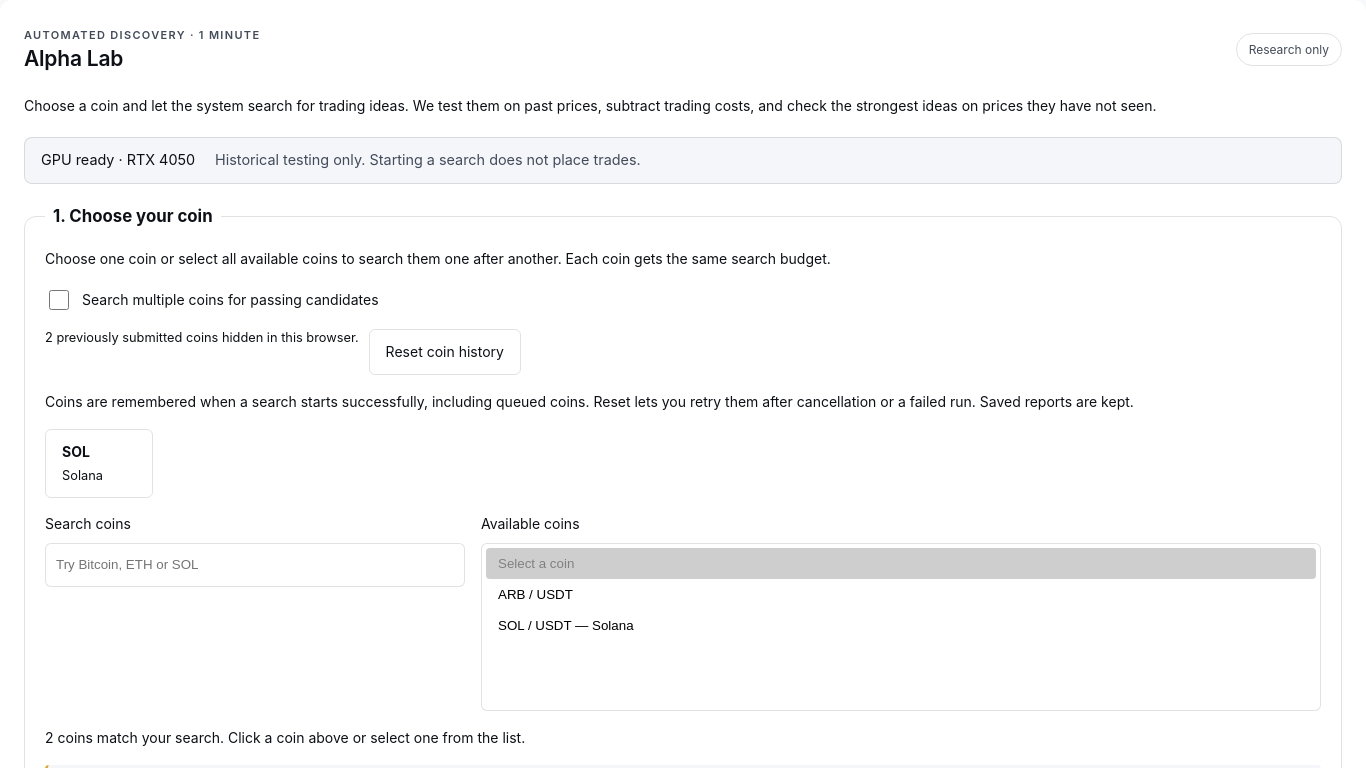
Test: hides remembered coins from all selectors and reset makes them selectable again
Expected: the search field labelled "Search coins" is shown, [45,543,465,587]
Expected: the option "Ethereum" is not shown
Click the checkbox labelled "Search multiple coins for passing candidates" at (59, 300), box [49,290,69,310]
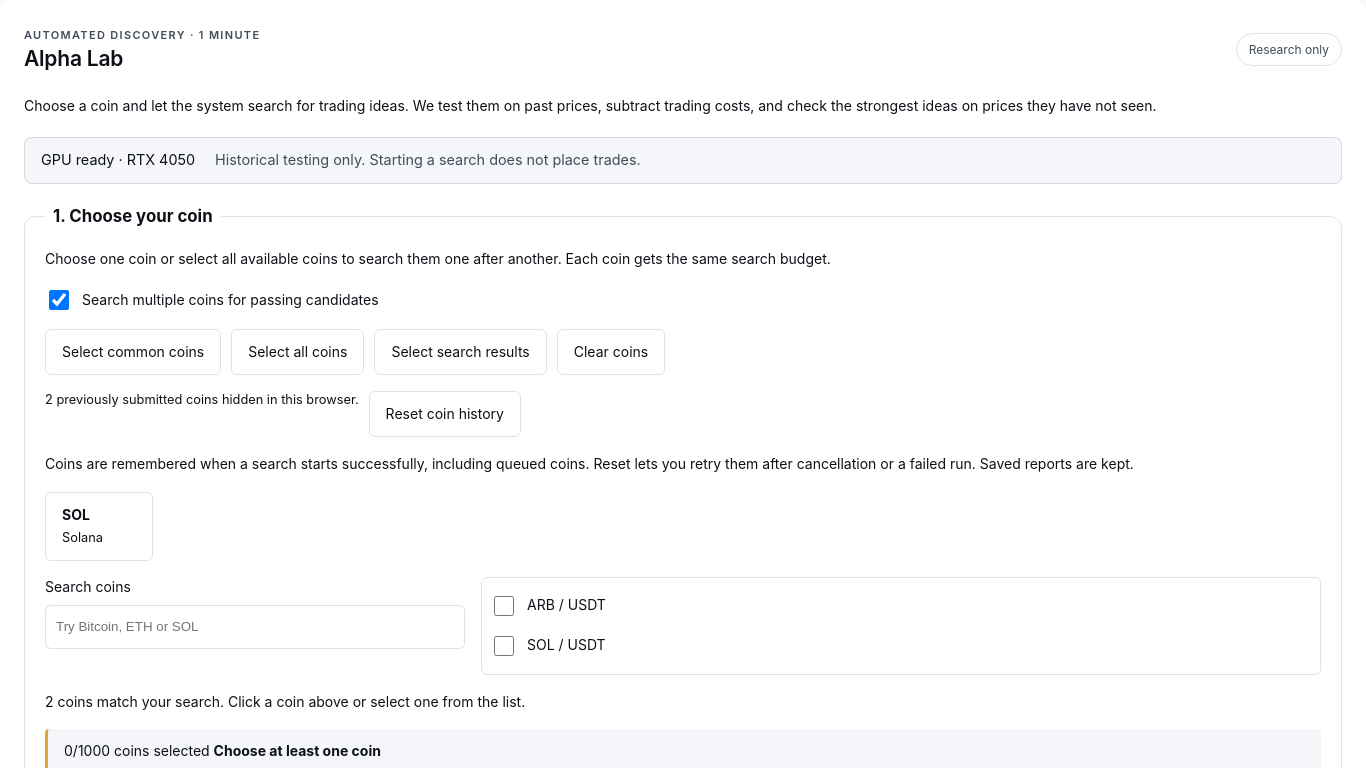
Click the button "Select all coins" at (298, 352), box [231,329,364,375]
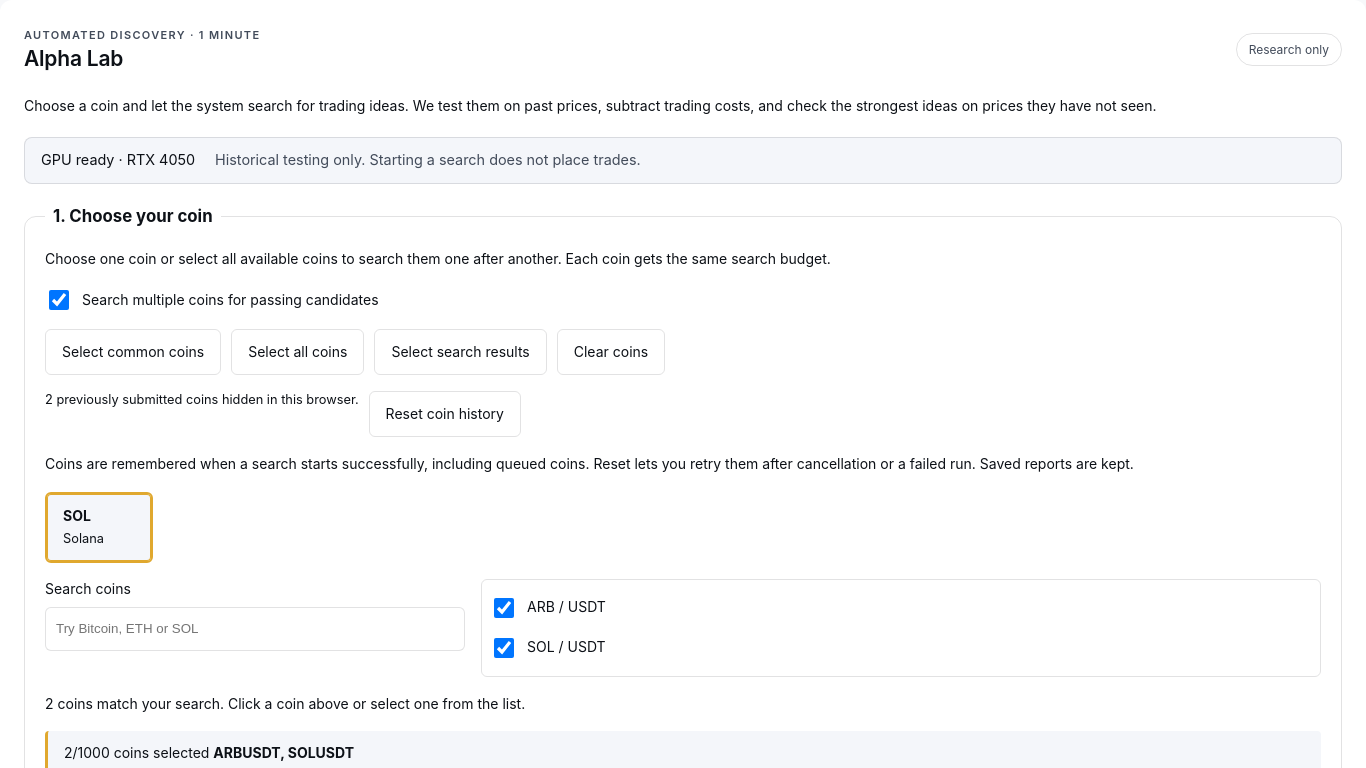
Now the text "2/1000 coins selected" is shown, box [64,744,209,761]
Click the button "Reset coin history" at (445, 414), box [369,391,521,437]
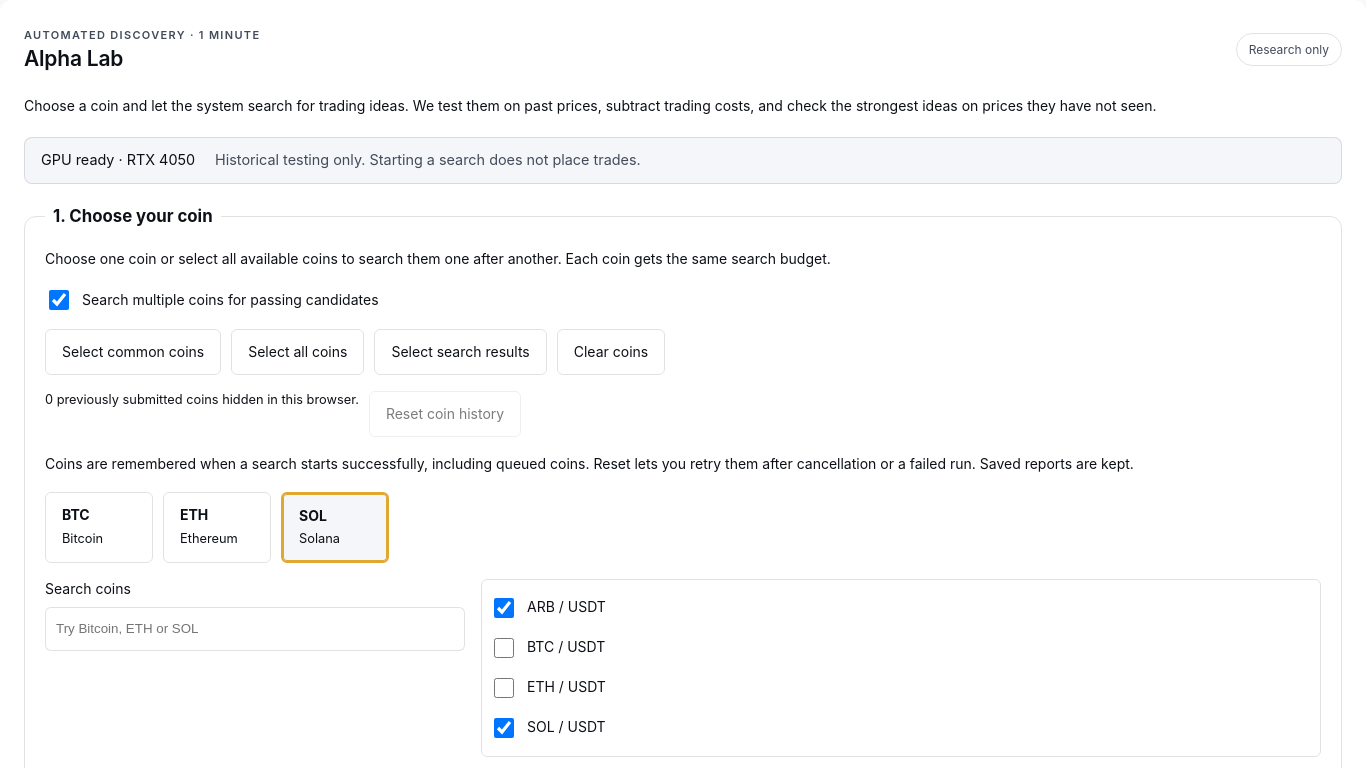
Now the button with aria-label "Choose Bitcoin (BTC)" is shown, box [45,492,153,562]
